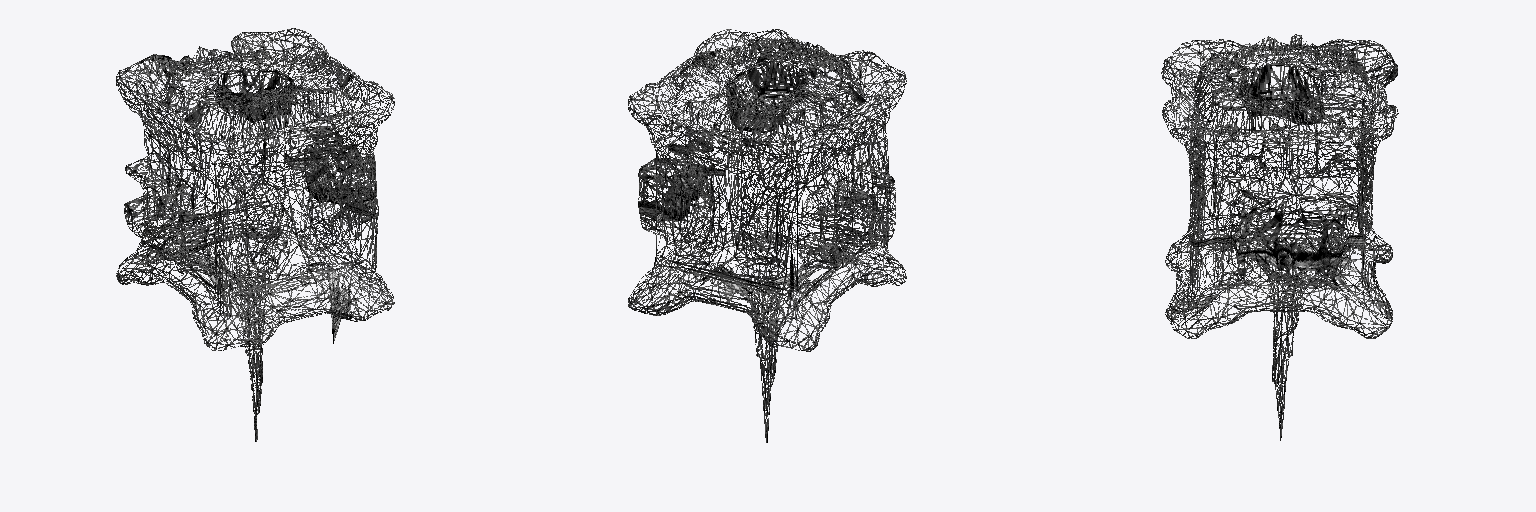
3 views of the same model, side by side, from view 1: azimuth 30°, elevation 25°; view 2: azimuth 150°, elevation 25°; view 3: azimuth 270°, elevation 25° (orthographic).
Parts seen in each view (by area): view 1: Cube; view 2: Cube; view 3: Cube.
Part boxes in pixels (left/top/right/bottom): Cube: left=116, top=28, right=394, bottom=441; Cube: left=628, top=29, right=906, bottom=442; Cube: left=1161, top=34, right=1398, bottom=440.
Bounding box in the file's own units: 2.88 × 5.18 × 2.99.
Materials: 1 (1 with a texture image).